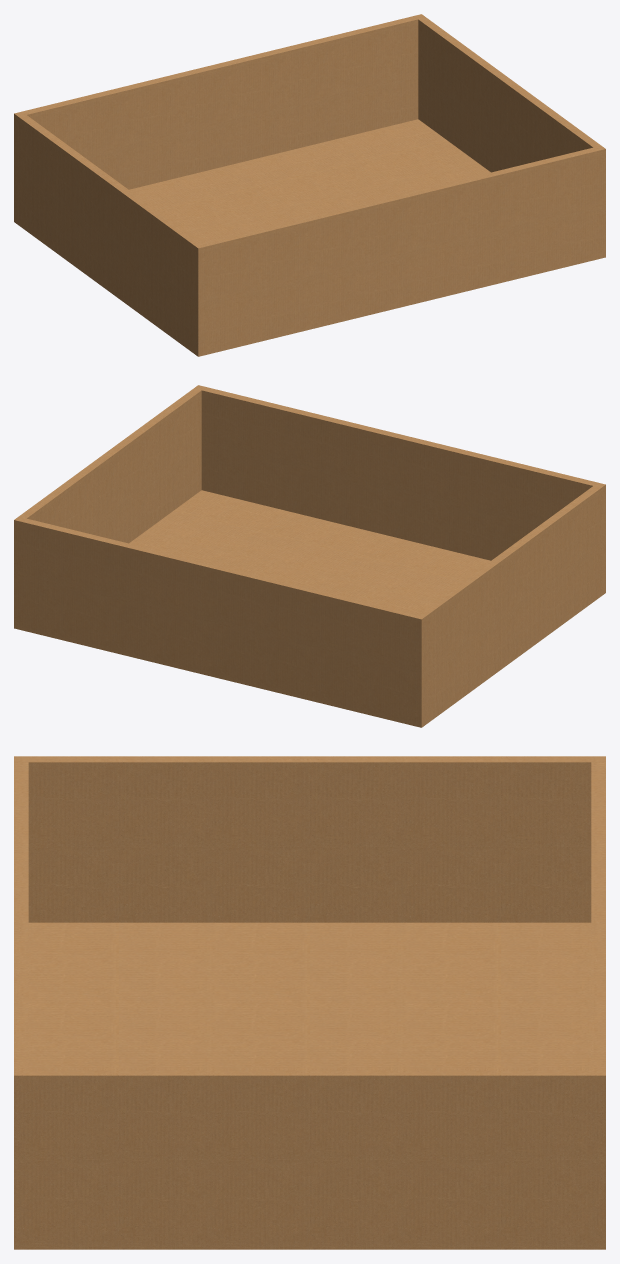
File: delivery_box_body.obj
3 renders of one model, top to bottom at view 1: azimuth 30°, elevation 25°; view 2: azimuth 150°, elevation 25°; view 3: azimuth 270°, elevation 25°, orthographic. The views are drawn at different scales.
Visible parts, largest first — view 1: delivery_box_body; view 2: delivery_box_body; view 3: delivery_box_body.
Part boxes in pixels (bbox=[...]): delivery_box_body: bbox=[14, 14, 605, 356]; delivery_box_body: bbox=[14, 385, 605, 727]; delivery_box_body: bbox=[14, 756, 605, 1249].
Size of the model in its own units: 0.2472 by 0.0628 by 0.1936.
Materials: 2 (2 with a texture image).
